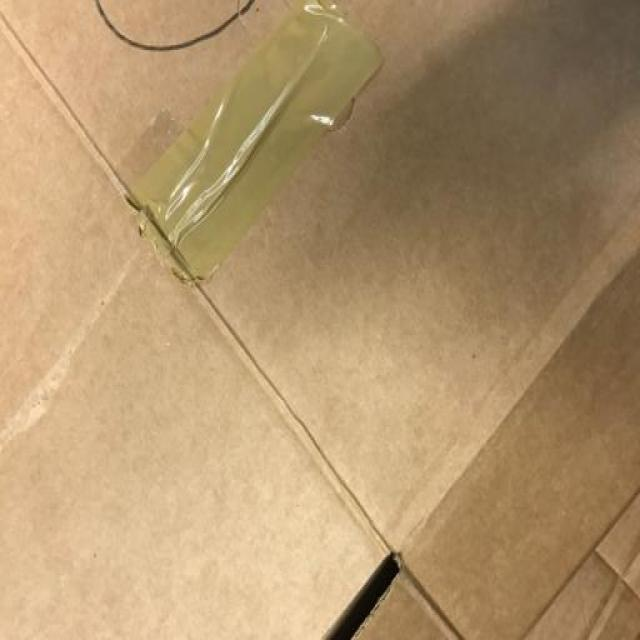Cardboard Paper: (3, 0, 640, 640)
